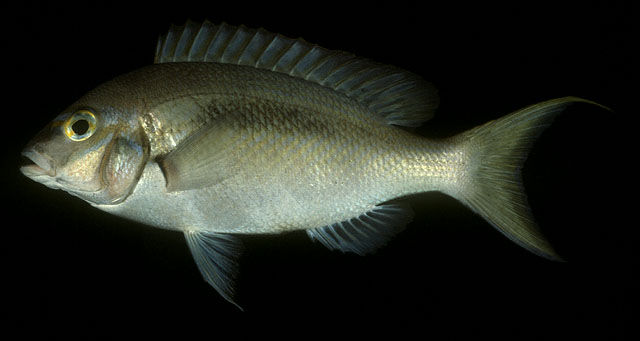fish: (19, 25, 595, 311)
